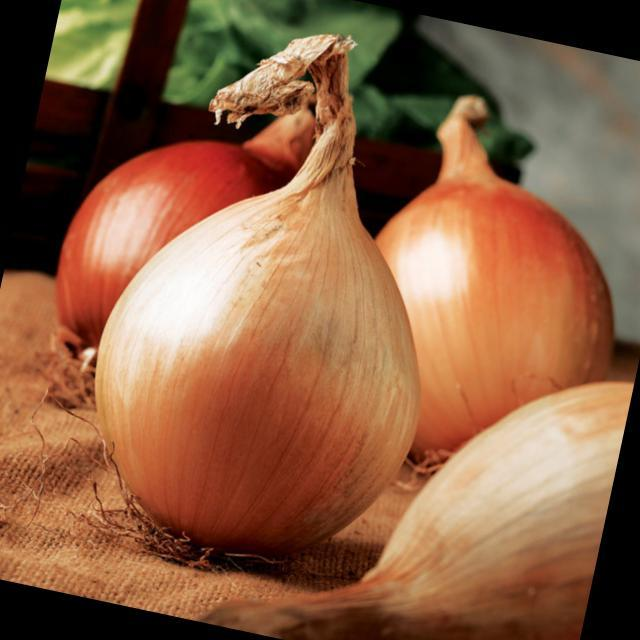ONIONS: (70, 142, 474, 585), (374, 78, 640, 407), (363, 332, 635, 640), (50, 105, 262, 342)
